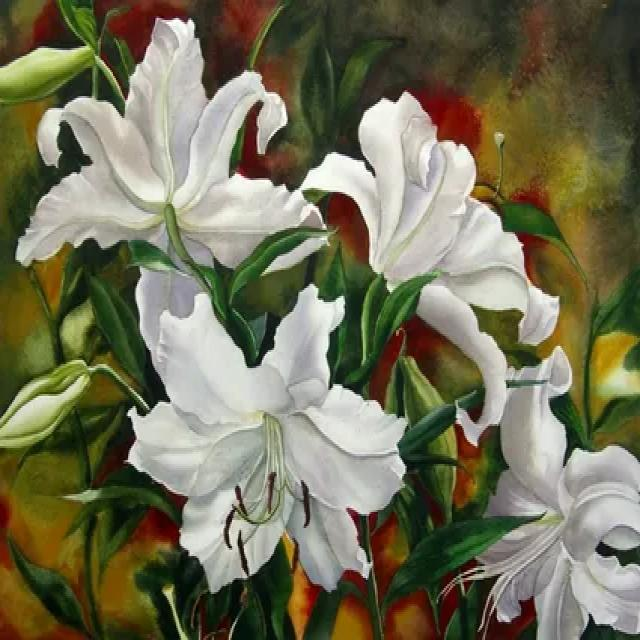lily: (129, 278, 409, 599)
